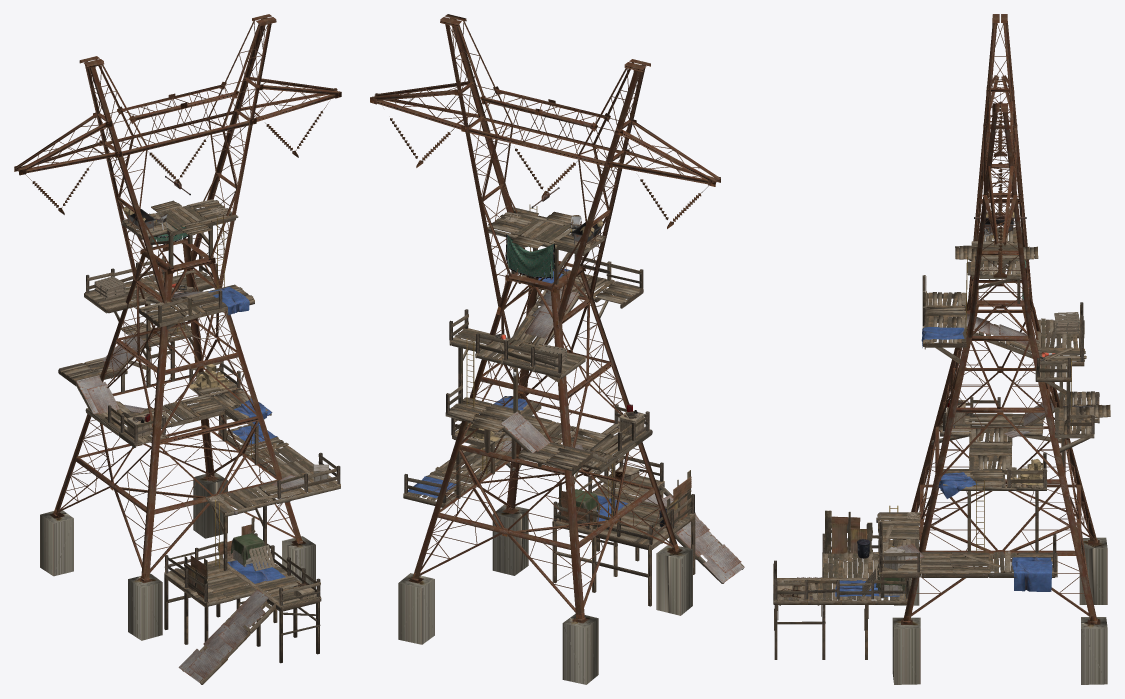
The model's file is powerlineplatform_c.glb.
The picture shows the model from 3 angles, left to right: view 1: azimuth 30°, elevation 25°; view 2: azimuth 150°, elevation 25°; view 3: azimuth 270°, elevation 25°; orthographic projection. The views are drawn at different scales.
Visible parts, largest first — view 1: powerline_a_LOD0, Lvl0PlatformA, Lvl1PlatformA_LOD0, Lvl0PlatformStairs_LOD0, Lvl6PlatformA_LOD0, Lvl5PlatformA_LOD0, Lvl4PlatformA_LOD0, Lvl1PlatformB_LOD0, Tarp, Lvl2PlatformC_LOD0, Lvl2PlatformB_LOD0, Lvl2PlatformA_LOD0 (+8 smaller); view 2: powerline_a_LOD0, Lvl0PlatformA, Lvl4PlatformA_LOD0, Lvl6PlatformA_LOD0, Lvl1PlatformB_LOD0, Lvl3PlatformB_LOD0, Lvl0PlatformStairs_LOD0, Lvl5PlatformA_LOD0, Lvl2PlatformC_LOD0, Lvl4PlatformRamp_LOD0, fishing_net_hanging_b, Lvl3PlatformA_LOD0 (+6 smaller); view 3: powerline_a_LOD0, Lvl0PlatformA, Lvl1PlatformB_LOD0, Tarp, Lvl1PlatformA_LOD0, Lvl4PlatformA_LOD0, Lvl6PlatformA_LOD0, Lvl5PlatformA_LOD0, Lvl3PlatformB_LOD0, Lvl2PlatformC_LOD0, Lvl2PlatformA_LOD0, Lvl2PlatformB_LOD0 (+4 smaller).
Part boxes in pixels (x1,y1,x2,y2): powerline_a_LOD0: (14, 14, 341, 640); Lvl0PlatformA: (164, 533, 321, 663); Lvl1PlatformA_LOD0: (205, 452, 340, 570); Lvl0PlatformStairs_LOD0: (178, 589, 276, 684); Lvl6PlatformA_LOD0: (121, 199, 238, 268); Lvl5PlatformA_LOD0: (138, 270, 254, 329); Lvl4PlatformA_LOD0: (84, 255, 217, 321); Lvl1PlatformB_LOD0: (205, 393, 313, 478); Tarp: (208, 286, 285, 583); Lvl2PlatformC_LOD0: (85, 401, 168, 447); Lvl2PlatformB_LOD0: (125, 395, 224, 429); Lvl2PlatformA_LOD0: (189, 361, 271, 421); powerline_a_LOD0: (370, 14, 720, 684); Lvl0PlatformA: (552, 455, 695, 606); Lvl4PlatformA_LOD0: (449, 309, 585, 382); Lvl6PlatformA_LOD0: (487, 207, 605, 284); Lvl1PlatformB_LOD0: (403, 431, 511, 507); Lvl3PlatformB_LOD0: (445, 340, 523, 459); Lvl0PlatformStairs_LOD0: (644, 484, 744, 583); Lvl5PlatformA_LOD0: (518, 254, 643, 317); Lvl2PlatformC_LOD0: (571, 404, 652, 483); Lvl4PlatformRamp_LOD0: (512, 288, 579, 346); fishing_net_hanging_b: (505, 234, 555, 279); Lvl3PlatformA_LOD0: (518, 442, 592, 475); powerline_a_LOD0: (892, 14, 1107, 684); Lvl0PlatformA: (773, 533, 910, 659); Lvl1PlatformB_LOD0: (920, 491, 1057, 577); Tarp: (835, 327, 1052, 596); Lvl1PlatformA_LOD0: (876, 512, 924, 598); Lvl4PlatformA_LOD0: (1035, 302, 1086, 381); Lvl6PlatformA_LOD0: (955, 227, 1038, 304); Lvl5PlatformA_LOD0: (922, 275, 966, 363); Lvl3PlatformB_LOD0: (1041, 347, 1110, 466); Lvl2PlatformC_LOD0: (931, 397, 1069, 444); Lvl2PlatformA_LOD0: (939, 452, 1047, 490); Lvl2PlatformB_LOD0: (969, 427, 1012, 470).
Bounding box in the file's own units: 24.83 × 40.41 × 21.18.
Materials: 21 (21 with a texture image).
